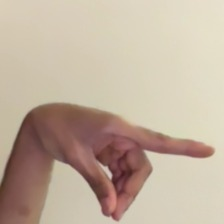P: (14, 96, 220, 224)
